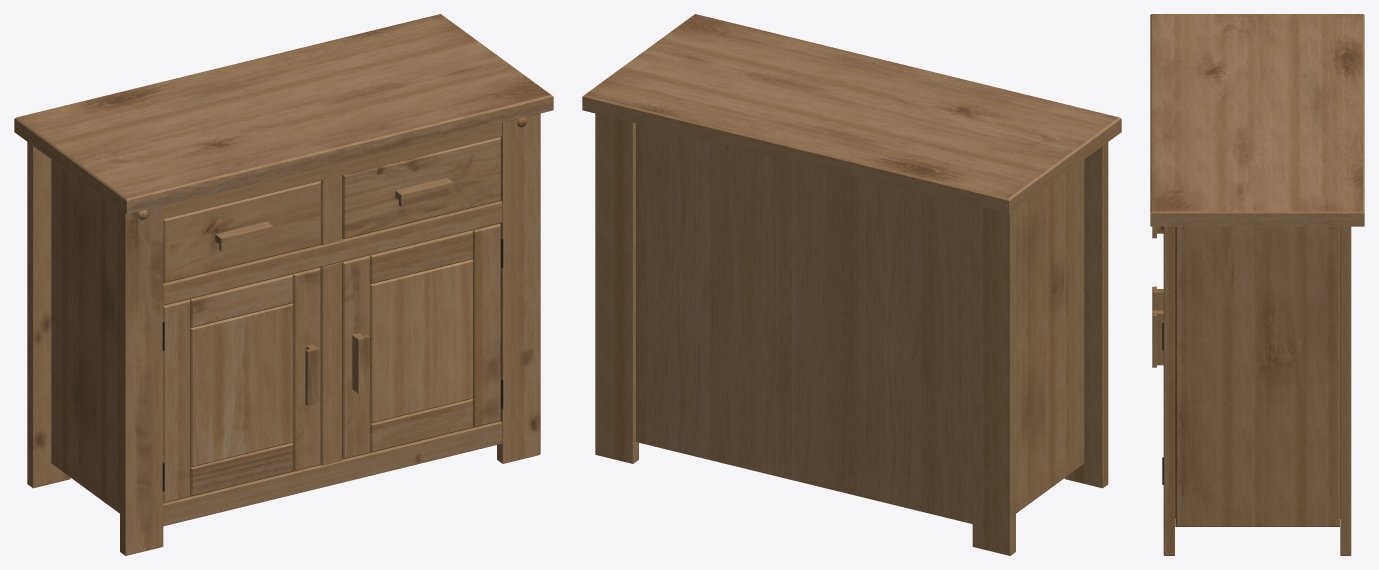
File: mobile.glb
3 views of the same model, side by side, from view 1: azimuth 30°, elevation 25°; view 2: azimuth 150°, elevation 25°; view 3: azimuth 270°, elevation 25° (orthographic). The views are drawn at different scales.
Parts seen in each view (by area): view 1: PTRCQZALLQ1Y18AC.001; view 2: PTRCQZALLQ1Y18AC.001; view 3: PTRCQZALLQ1Y18AC.001.
Part boxes in pixels (x1,y1,x2,y2): PTRCQZALLQ1Y18AC.001: (14, 14, 553, 555); PTRCQZALLQ1Y18AC.001: (582, 14, 1121, 555); PTRCQZALLQ1Y18AC.001: (1150, 14, 1364, 555).
Bounding box in the file's own units: 1.02 × 0.83 × 0.465.
Materials: 1 (1 with a texture image).
